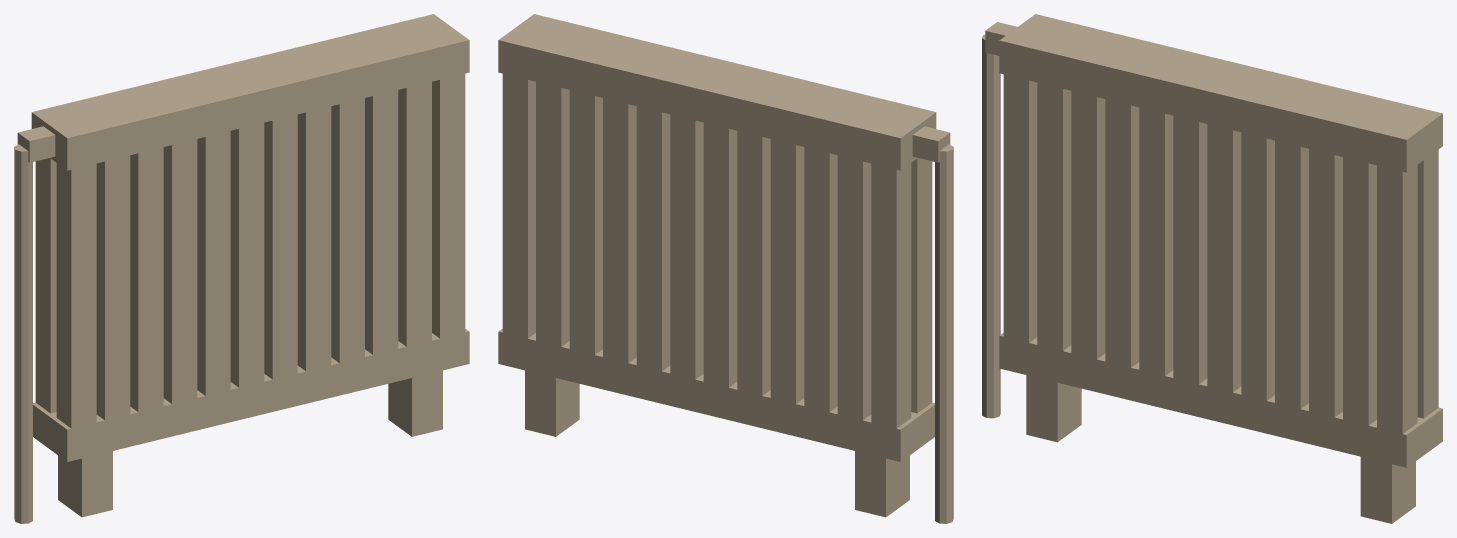
The model's file is radiator.glb.
The picture shows the model from 3 angles, left to right: view 1: azimuth 30°, elevation 25°; view 2: azimuth 150°, elevation 25°; view 3: azimuth 330°, elevation 25°; orthographic projection.
Parts seen in each view (by area): view 1: radiator; view 2: radiator; view 3: radiator.
Boxes of the visible parts, x1=… form: radiator: x1=14, y1=14, x2=469, y2=523; radiator: x1=498, y1=14, x2=953, y2=523; radiator: x1=982, y1=14, x2=1442, y2=523.
Size of the model in its own units: 0.846 by 0.72 by 0.12.
